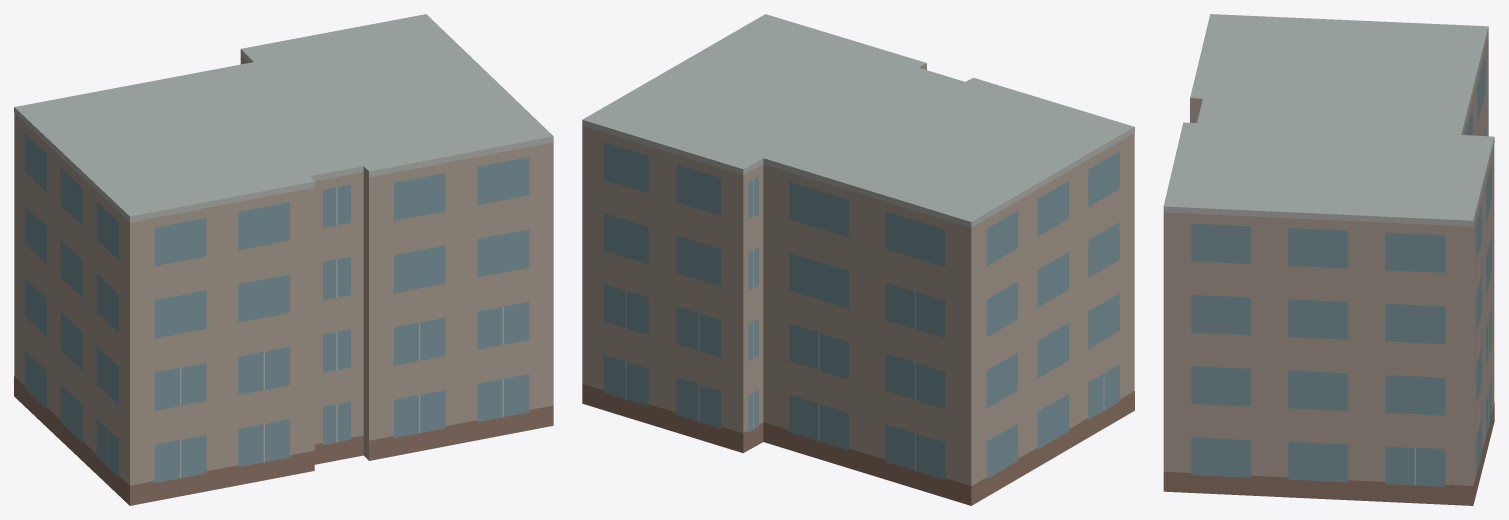
Rendered from survey-upis-32672213.glb.
The picture shows the model from 3 angles, left to right: view 1: azimuth 30°, elevation 25°; view 2: azimuth 150°, elevation 25°; view 3: azimuth 270°, elevation 25°; orthographic projection.
Visible parts, largest first — view 1: survey-upis-32672213.tmp; view 2: survey-upis-32672213.tmp; view 3: survey-upis-32672213.tmp.
Boxes of the visible parts, left/top/right/bottom form: survey-upis-32672213.tmp: left=14, top=14, right=553, bottom=505; survey-upis-32672213.tmp: left=582, top=14, right=1134, bottom=505; survey-upis-32672213.tmp: left=1163, top=14, right=1494, bottom=505.
Bounding box in the file's own units: 18.2 × 11.7 × 12.31.
